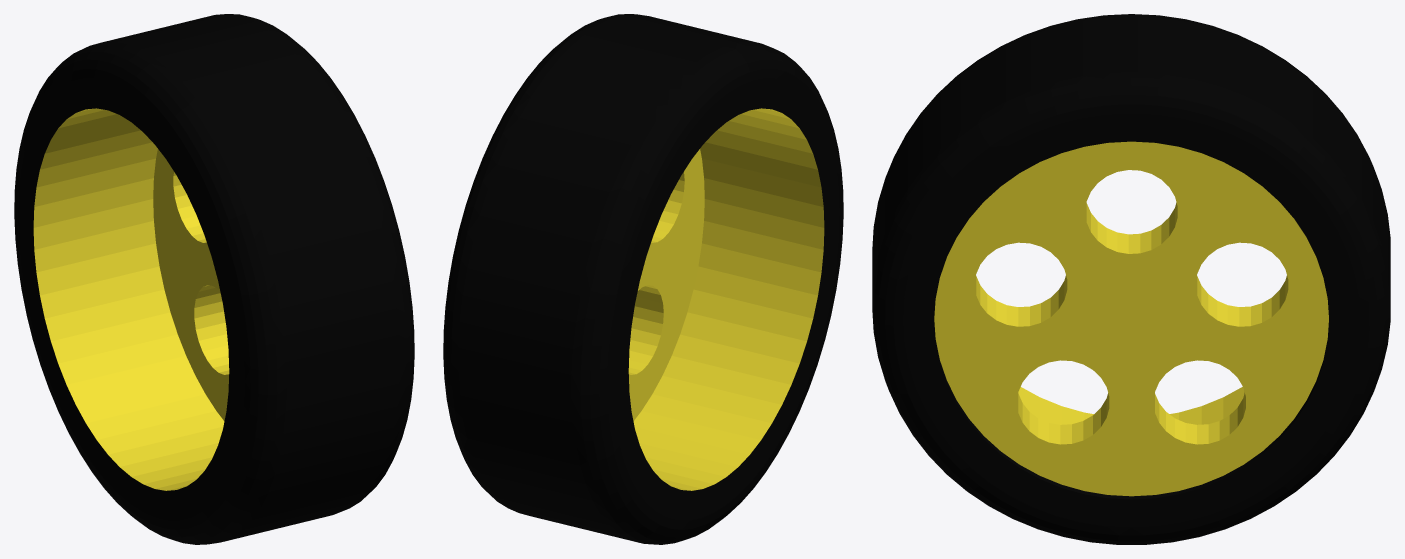
The model's file is wheel.dae.
3 renders of one model, left to right at view 1: azimuth 30°, elevation 25°; view 2: azimuth 150°, elevation 25°; view 3: azimuth 270°, elevation 25°, orthographic.
Parts seen in each view (by area): view 1: Body1.007; view 2: Body1.007; view 3: Body1.007.
Boxes of the visible parts, x1=… form: Body1.007: x1=14, y1=14, x2=414, y2=544; Body1.007: x1=443, y1=14, x2=843, y2=544; Body1.007: x1=872, y1=14, x2=1390, y2=544.
Size of the model in its own units: 2.5 by 6.7 by 6.7.
